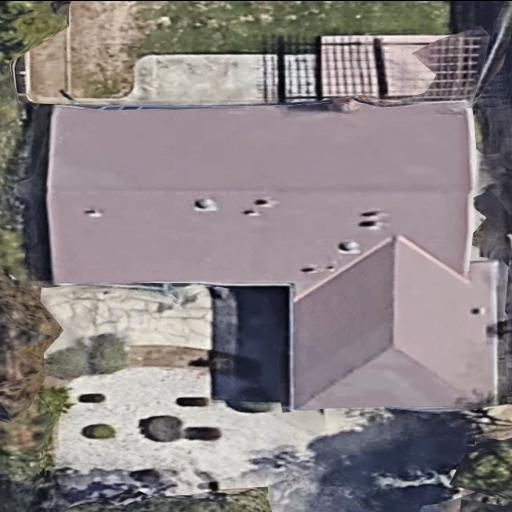Slope-Roof: (47, 99, 499, 410)
